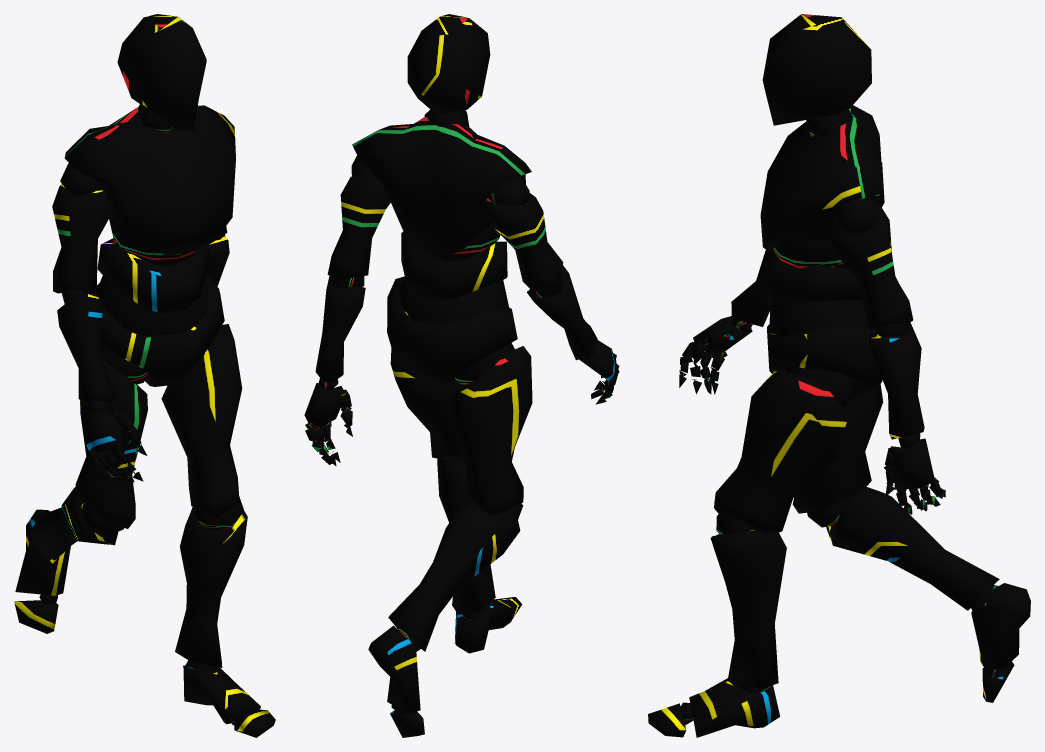
File: y-bot-origin_000024.obj
3 views of the same model, side by side, from view 1: azimuth 30°, elevation 25°; view 2: azimuth 150°, elevation 25°; view 3: azimuth 270°, elevation 25° (orthographic). The views are drawn at different scales.
Parts seen in each view (by area): view 1: Alpha_Surface_Alpha_SurfaceMesh, Alpha_Joints_Alpha_JointsMesh; view 2: Alpha_Surface_Alpha_SurfaceMesh, Alpha_Joints_Alpha_JointsMesh; view 3: Alpha_Surface_Alpha_SurfaceMesh, Alpha_Joints_Alpha_JointsMesh.
Part boxes in pixels (bbox=[...]): Alpha_Surface_Alpha_SurfaceMesh: bbox=[14, 14, 275, 737]; Alpha_Joints_Alpha_JointsMesh: bbox=[39, 104, 243, 725]; Alpha_Surface_Alpha_SurfaceMesh: bbox=[304, 14, 619, 737]; Alpha_Joints_Alpha_JointsMesh: bbox=[305, 109, 619, 713]; Alpha_Surface_Alpha_SurfaceMesh: bbox=[648, 14, 1030, 737]; Alpha_Joints_Alpha_JointsMesh: bbox=[679, 109, 1005, 725].
Bounding box in the file's own units: 0.6074 × 1.76 × 0.8681.
